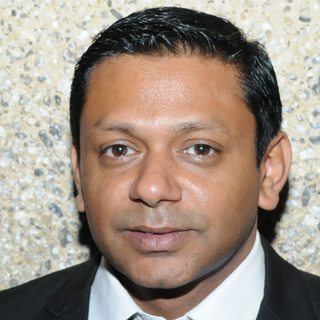eye: (177, 138, 225, 164), (97, 139, 142, 164)
